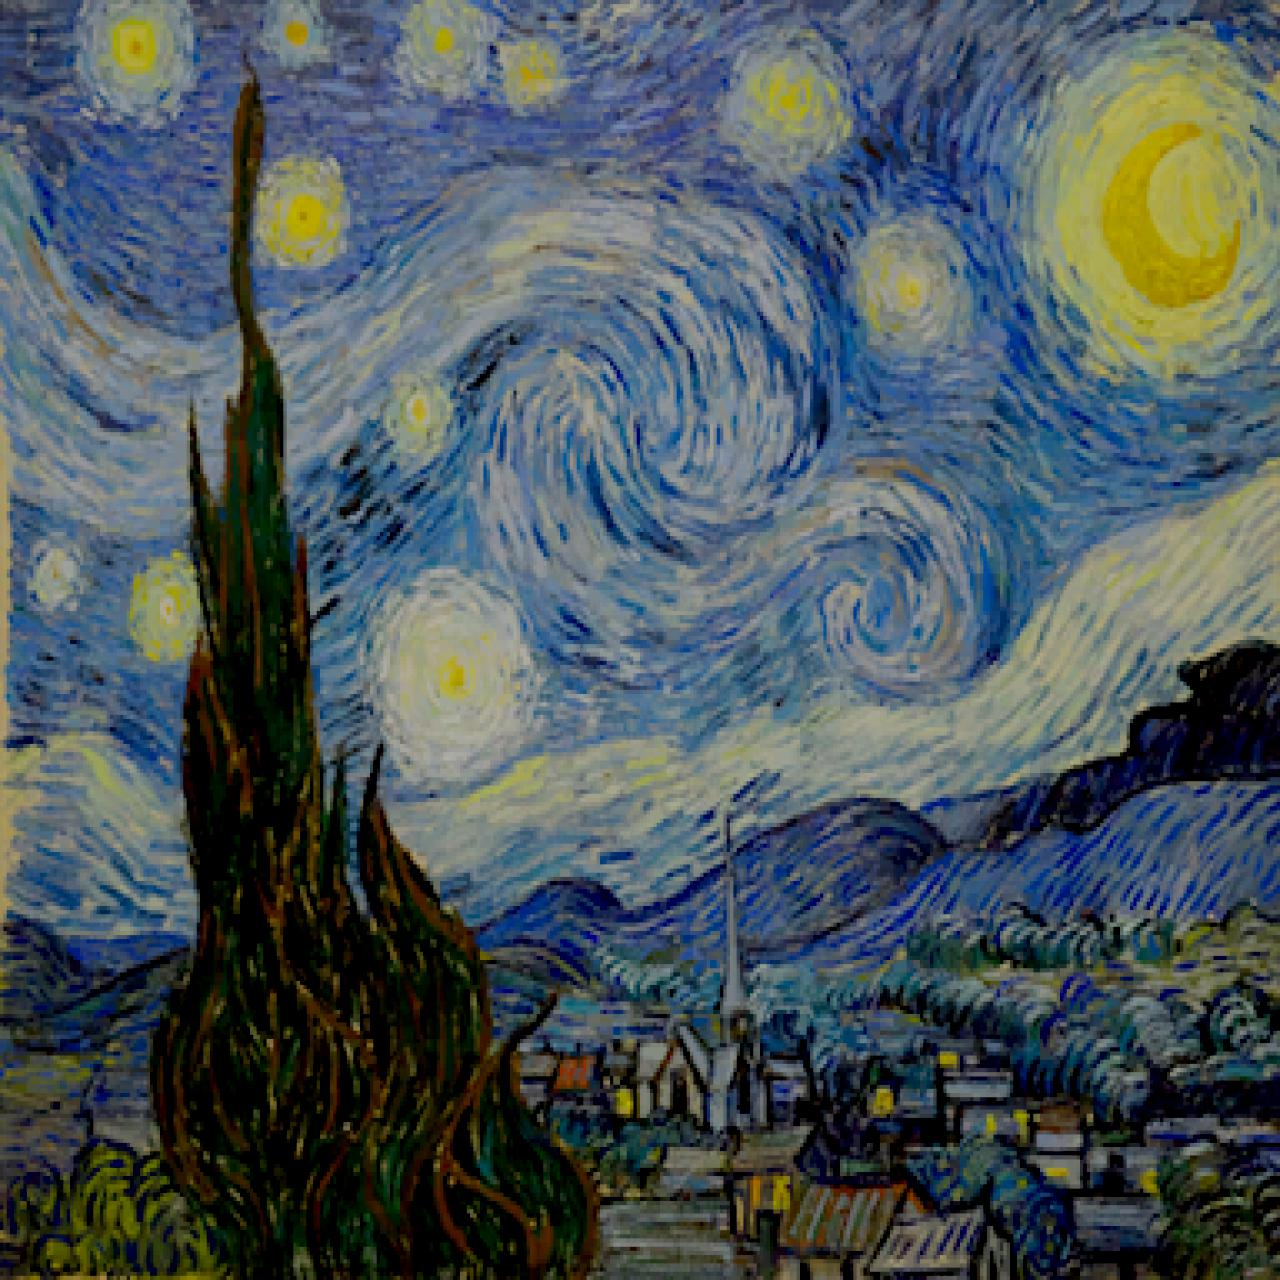StarryNight: (1, 1, 1278, 1276)
